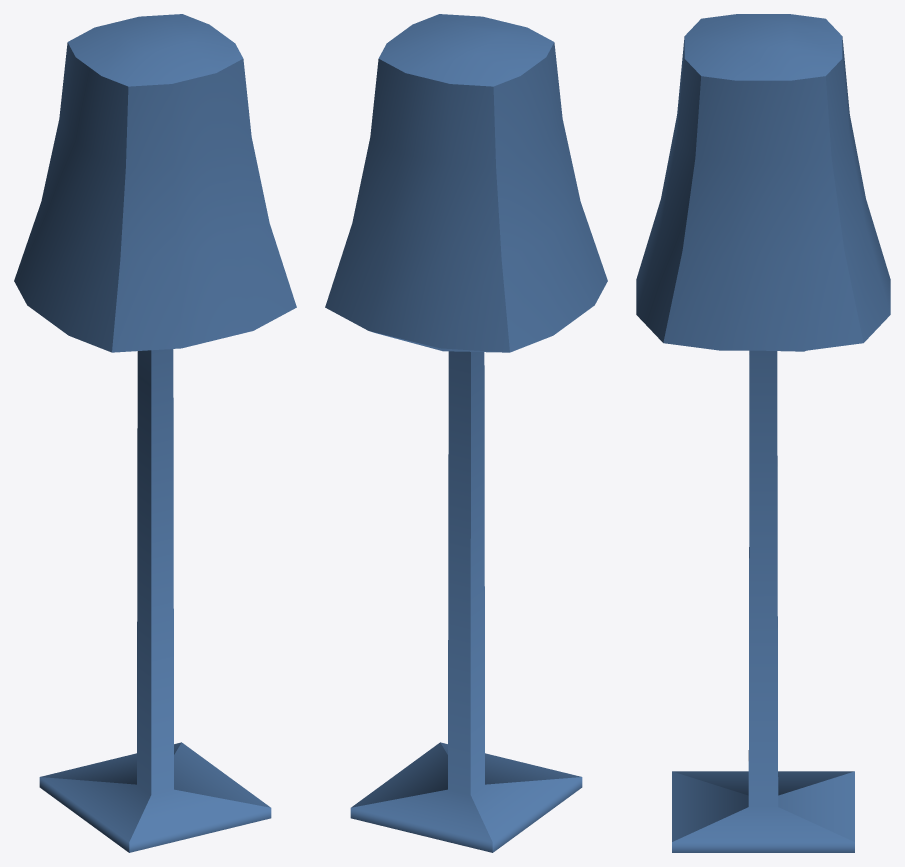
Rendered from lamp.fbx.
3 renders of one model, left to right at view 1: azimuth 30°, elevation 25°; view 2: azimuth 150°, elevation 25°; view 3: azimuth 270°, elevation 25°, orthographic. The views are drawn at different scales.
Parts seen in each view (by area): view 1: lamp; view 2: lamp; view 3: lamp.
Part boxes in pixels (left/top/right/bottom): lamp: left=14, top=14, right=296, bottom=852; lamp: left=325, top=14, right=607, bottom=852; lamp: left=636, top=14, right=890, bottom=852.
Size of the model in its own units: 113 by 384 by 113.
